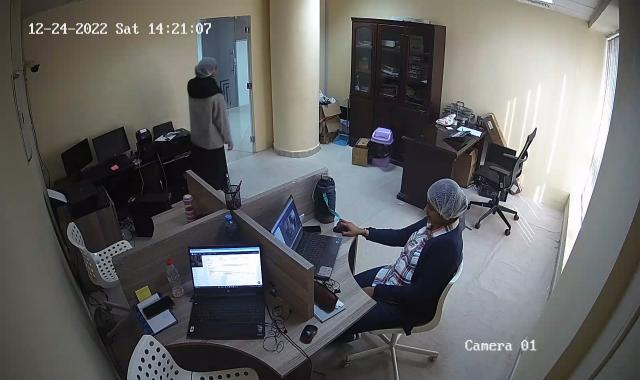hairnet: (422, 178, 467, 227), (192, 58, 220, 83)
